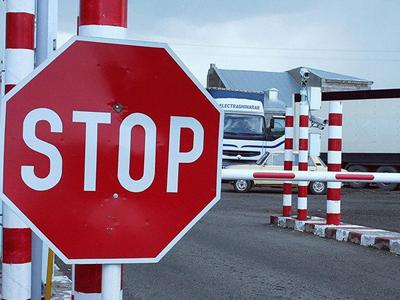stop: (10, 65, 213, 240)
